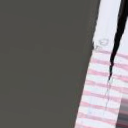crackTip: (107, 1, 126, 114)
